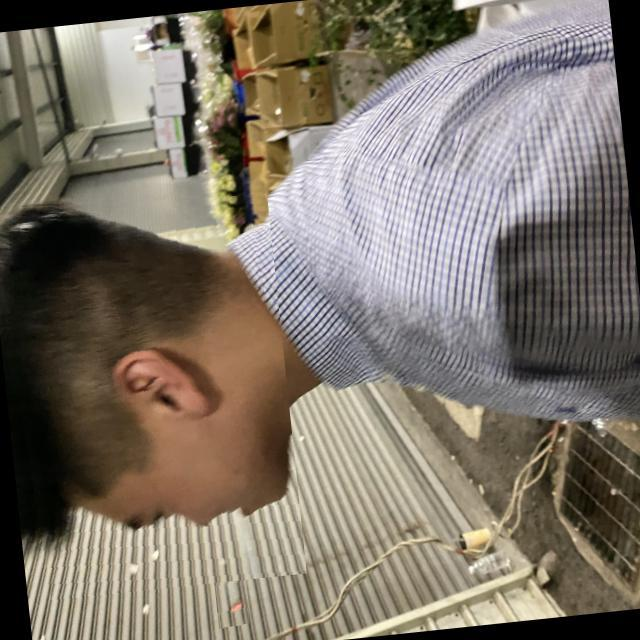cigarette: (204, 488, 254, 628)
